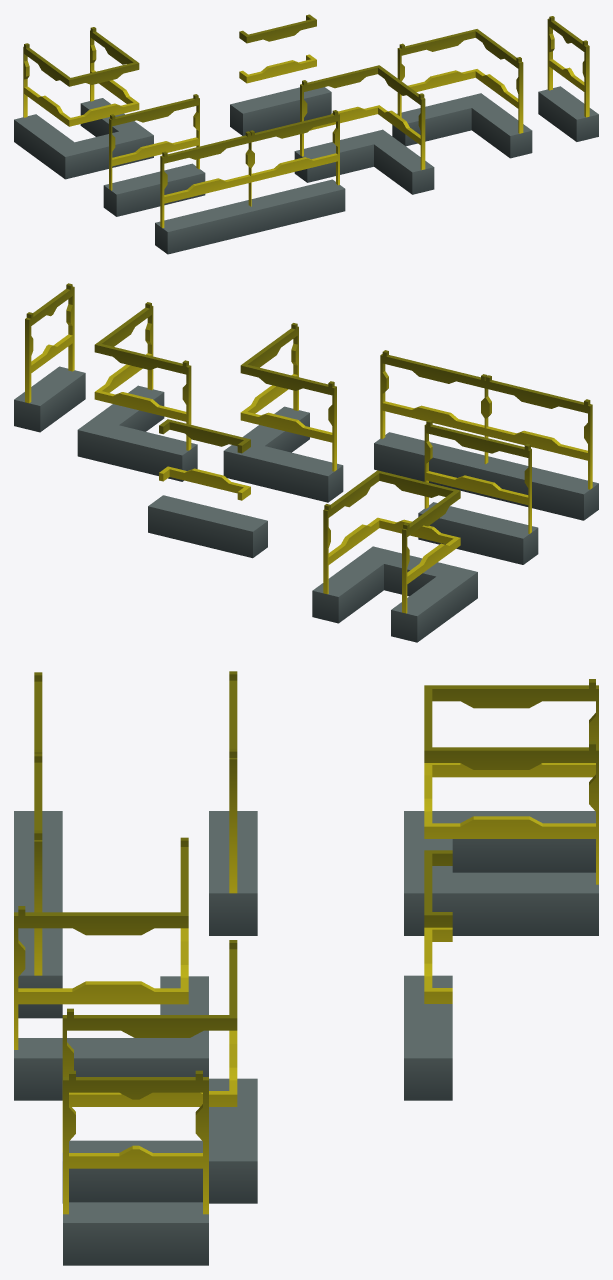
File: Varandas01.fbx
3 renders of one model, top to bottom at view 1: azimuth 30°, elevation 25°; view 2: azimuth 150°, elevation 25°; view 3: azimuth 270°, elevation 25°, orthographic. The views are drawn at different scales.
Visible parts, largest first — view 1: Box055, Box059, Box056, Box053, Box057, Box058, Box052; view 2: Box059, Box055, Box053, Box056, Box057, Box058, Box052; view 3: Box059, Box056, Box053, Box052, Box055, Box058, Box057.
Boxes of the visible parts, x1,y1,x2,y2 form: Box055: [155, 110, 345, 254]; Box059: [14, 27, 153, 179]; Box056: [392, 29, 532, 158]; Box053: [294, 65, 434, 194]; Box057: [103, 94, 205, 216]; Box058: [230, 14, 331, 135]; Box052: [538, 16, 598, 141]; Box059: [312, 470, 477, 642]; Box055: [374, 350, 598, 520]; Box053: [223, 323, 343, 502]; Box056: [77, 302, 197, 481]; Box057: [418, 420, 538, 564]; Box058: [148, 419, 267, 558]; Box052: [14, 283, 85, 432]; Box059: [404, 679, 598, 935]; Box056: [62, 940, 257, 1203]; Box053: [14, 837, 208, 1100]; Box052: [63, 1070, 208, 1265]; Box055: [14, 672, 62, 1018]; Box058: [404, 850, 452, 1100]; Box057: [209, 671, 257, 935].
Size of the model in its own units: 98.43 by 20.39 by 59.06.
1 material, 1 textured.
